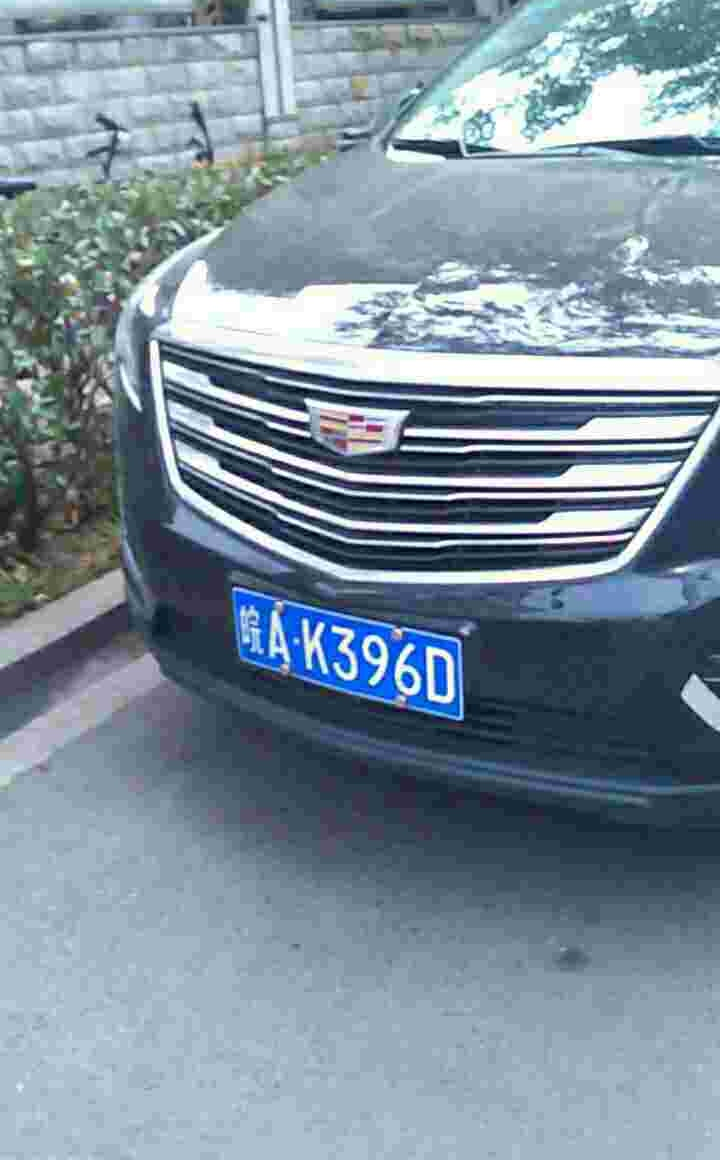license_plate: (228, 585, 474, 715)
